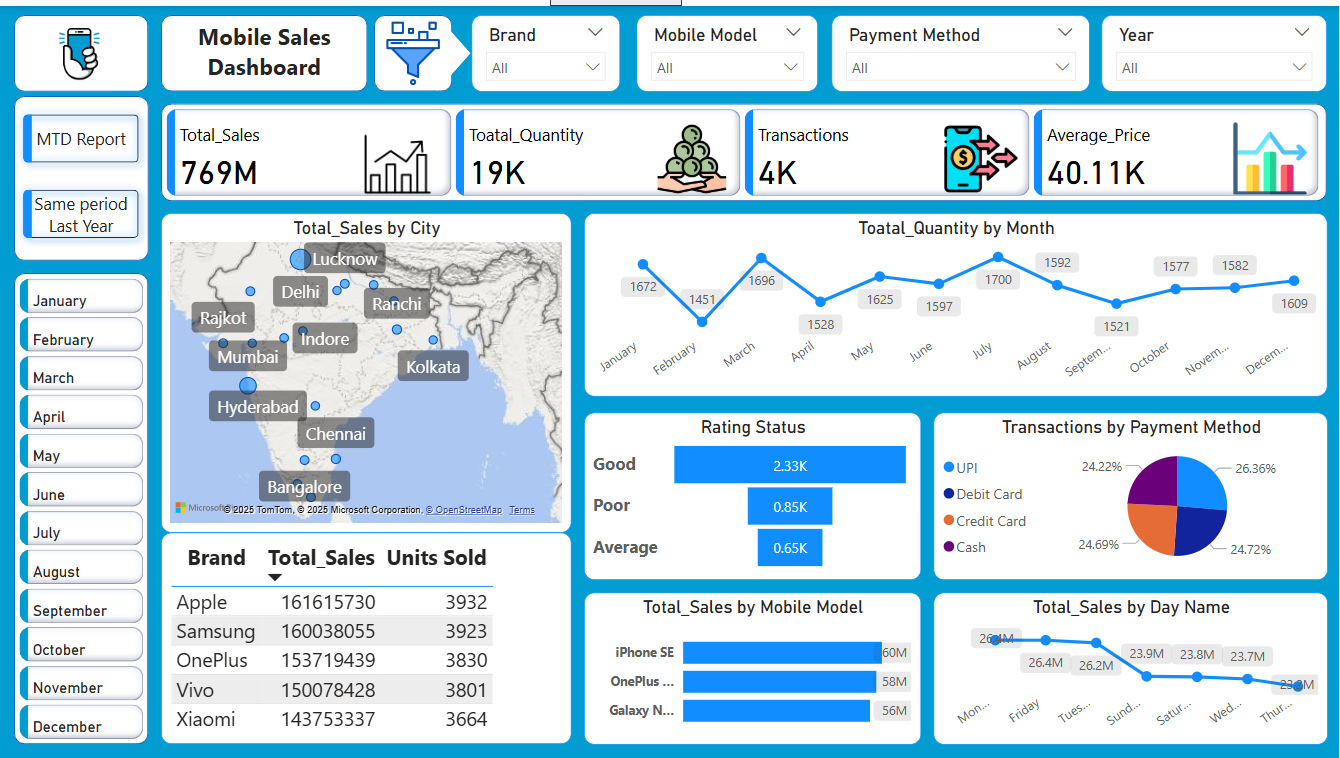

The dashboard page shown, as its layout file describes it:
{"tool":"powerbi","page":{"name":"Dashboard","canvas":[1280,720],"ordinal":0},"visuals":[{"type":"shape","box":[155,93.3,1113.3,93.3],"z":0},{"type":"shape","box":[15,8.3,128.3,73.3],"z":1000},{"type":"image","box":[15,8.3,128.3,73.3],"z":2000},{"type":"shape","box":[14.3,85.9,128.8,157.5],"z":3000},{"type":"shape","box":[15,255,128.3,450],"z":4000},{"type":"advancedSlicerVisual","fields":{"Values":["Custom_Calender.Date.Variation.Date Hierarchy.Month"]},"box":[14.3,254.5,128.8,450.1],"z":5000},{"type":"cardVisual","fields":{"Data":["Sales_Data.Total_Sales","Sales_Data.Toatal_Quantity","Sales_Data.Transactions","Sales_Data.Average_Price"]},"box":[155,93.3,1113.3,93.3],"z":6000},{"type":"slicer","fields":{"Values":["Sales_Data.Mobile Model"]},"box":[608.3,8.3,173.3,73.3],"z":7000},{"type":"slicer","fields":{"Values":["Sales_Data.Payment Method"]},"box":[795,8.3,246.7,73.3],"z":8000},{"type":"slicer","fields":{"Values":["Sales_Data.Brand"]},"box":[451.7,8.3,141.7,73.3],"z":9000},{"type":"shape","box":[357.9,8,74.8,73.2],"z":10000},{"type":"shape","box":[384.9,8,65.2,73.2],"z":11000},{"type":"image","box":[357.9,8,74.8,73.2],"z":12000},{"type":"shape","box":[154.3,8,197.2,73.2],"z":13000},{"type":"textbox","box":[154.3,8,197.2,73.2],"z":14000},{"type":"map","fields":{"Category":["Sales_Data.City"],"Size":["Sales_Data.Total_Sales"]},"box":[155,198.3,391.7,305],"z":15000},{"type":"lineChart","fields":{"Y":["Sales_Data.Toatal_Quantity"],"Category":["Custom_Calender.Date.Variation.Date Hierarchy.Month"]},"box":[558.3,198.3,710,175],"z":16000},{"type":"funnel","title":"Rating Status","fields":{"Category":["Sales_Data.Rating status"],"Y":["CountNonNull(Sales_Data.Rating status)"]},"box":[558.3,388.3,321.7,160],"z":17000},{"type":"pieChart","fields":{"Y":["Sales_Data.Transactions"],"Category":["Sales_Data.Payment Method"]},"box":[891.7,388.3,376.7,160],"z":18000},{"type":"barChart","fields":{"Y":["Sales_Data.Total_Sales"],"Category":["Sales_Data.Mobile Model"]},"box":[558.3,560,321.7,145],"z":19000},{"type":"lineChart","fields":{"Category":["Custom_Calender.Day Name"],"Y":["Sales_Data.Total_Sales"]},"box":[891.7,560,376.7,145],"z":20000},{"type":"tableEx","fields":{"Values":["Sales_Data.Brand","Sales_Data.Total_Sales","Sum(Sales_Data.Units Sold)"]},"box":[155,503.3,391.7,201.7],"z":21000},{"type":"slicer","fields":{"Values":["Custom_Calender.Date.Variation.Date Hierarchy.Year"]},"box":[1053.3,8.3,215,73.3],"z":22000},{"type":"pageNavigator","box":[14.3,93.8,128.8,136.8],"z":23000}]}

Visuals, with their boxes in screenshot pixels (x1, y1, x2, y2), scaled from the page's 1280x720 canvas onto the 1340x758 screenshot:
shape: 162, 98, 1328, 196
shape: 16, 9, 150, 86
image: 16, 9, 150, 86
shape: 15, 90, 150, 256
shape: 16, 268, 150, 742
advancedSlicerVisual - Custom_Calender.Date.Variation.Date Hierarchy.Month: 15, 268, 150, 742
cardVisual - Sales_Data.Total_Sales x Sales_Data.Toatal_Quantity: 162, 98, 1328, 196
slicer - Sales_Data.Mobile Model: 637, 9, 818, 86
slicer - Sales_Data.Payment Method: 832, 9, 1091, 86
slicer - Sales_Data.Brand: 473, 9, 621, 86
shape: 375, 8, 453, 85
shape: 403, 8, 471, 85
image: 375, 8, 453, 85
shape: 162, 8, 368, 85
textbox: 162, 8, 368, 85
map - Sales_Data.City x Sales_Data.Total_Sales: 162, 209, 572, 530
lineChart - Sales_Data.Toatal_Quantity x Custom_Calender.Date.Variation.Date Hierarchy.Month: 584, 209, 1328, 393
"Rating Status" funnel: 584, 409, 921, 577
pieChart - Sales_Data.Transactions x Sales_Data.Payment Method: 933, 409, 1328, 577
barChart - Sales_Data.Total_Sales x Sales_Data.Mobile Model: 584, 590, 921, 742
lineChart - Custom_Calender.Day Name x Sales_Data.Total_Sales: 933, 590, 1328, 742
tableEx - Sales_Data.Brand x Sales_Data.Total_Sales: 162, 530, 572, 742
slicer - Custom_Calender.Date.Variation.Date Hierarchy.Year: 1103, 9, 1328, 86
pageNavigator: 15, 99, 150, 243
